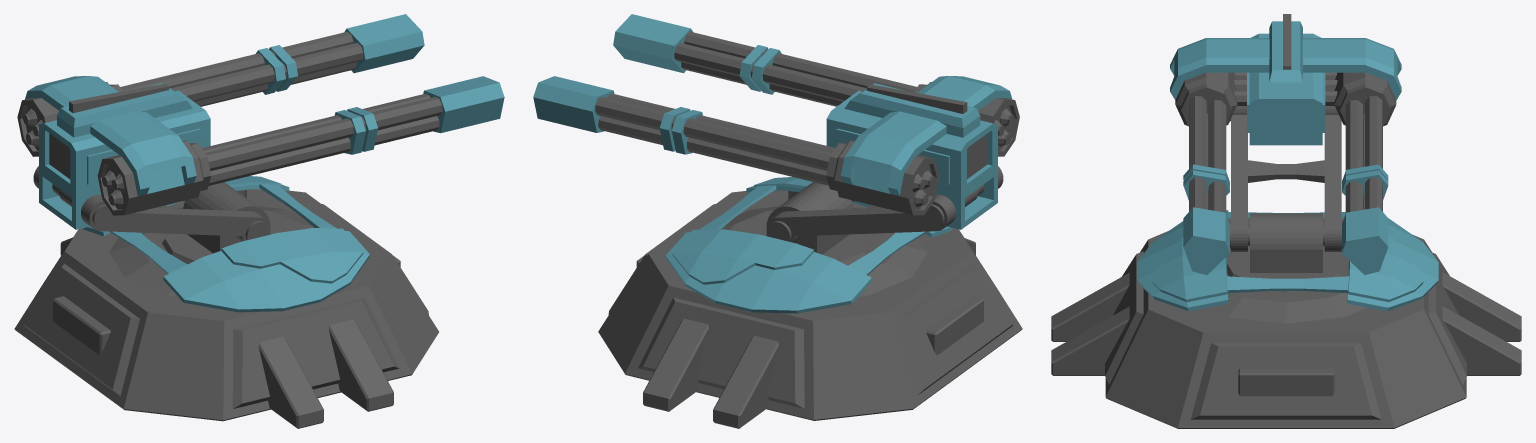
The model's file is Turret2Animation.fbx.
The picture shows the model from 3 angles, left to right: view 1: azimuth 30°, elevation 25°; view 2: azimuth 150°, elevation 25°; view 3: azimuth 270°, elevation 25°; orthographic projection.
Parts seen in each view (by area): view 1: Cube.003, Cube.029, Cube.021, Cube.010, Cube.002, Cube.023; view 2: Cube.003, Cube.029, Cube.021, Cube.002, Cube.010, Cube.023; view 3: Cube.003, Cube.021, Cube.029, Cube.010, Cube.002, Cube.023.
Boxes of the visible parts, x1,y1,x2,y2 form: Cube.003: [14, 189, 438, 428]; Cube.029: [17, 76, 211, 229]; Cube.021: [83, 176, 369, 312]; Cube.010: [102, 76, 504, 207]; Cube.002: [23, 14, 424, 146]; Cube.023: [33, 166, 270, 241]; Cube.003: [598, 190, 1022, 428]; Cube.029: [826, 76, 1019, 229]; Cube.021: [665, 177, 952, 313]; Cube.002: [533, 76, 935, 207]; Cube.010: [613, 14, 1014, 146]; Cube.023: [766, 166, 1003, 242]; Cube.003: [1051, 218, 1521, 428]; Cube.021: [1137, 210, 1438, 323]; Cube.029: [1170, 14, 1401, 145]; Cube.010: [1183, 96, 1229, 274]; Cube.002: [1342, 96, 1388, 274]; Cube.023: [1229, 106, 1341, 251].
Bounding box in the file's own units: 191 × 123 × 199.
